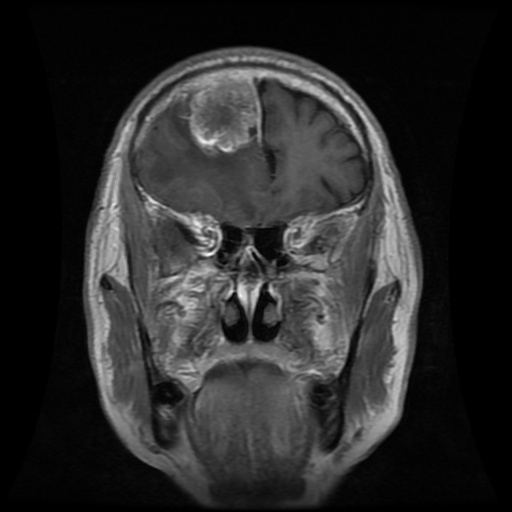meningioma: (188, 81, 263, 156)
